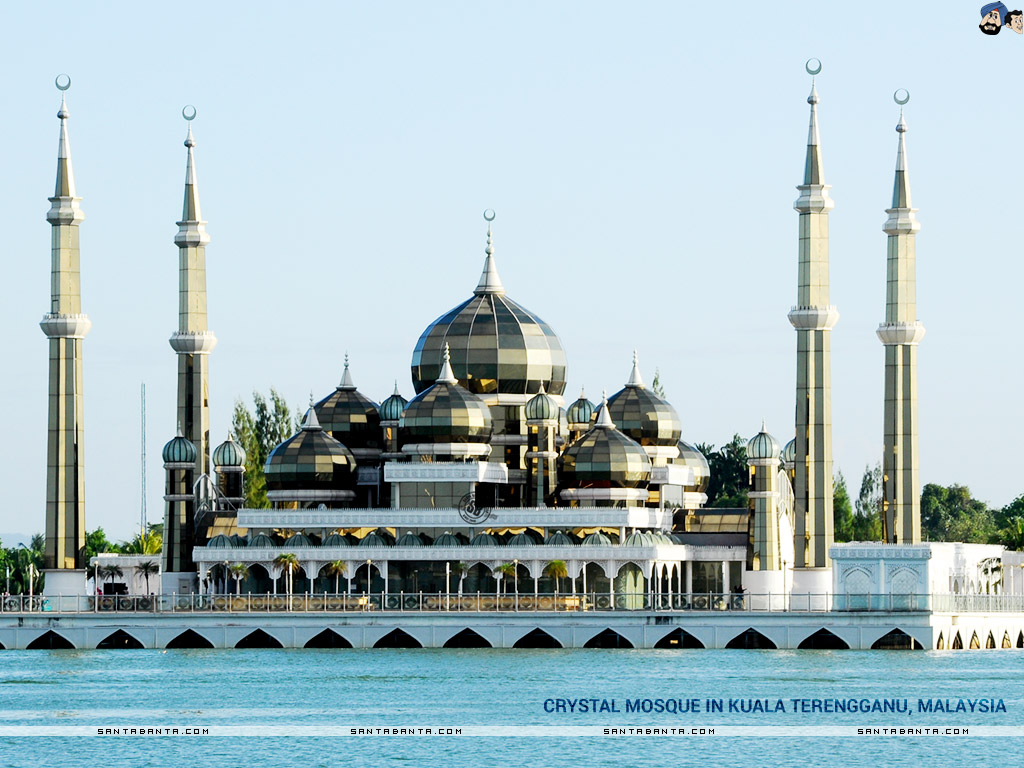Mosque: (23, 50, 928, 601)
